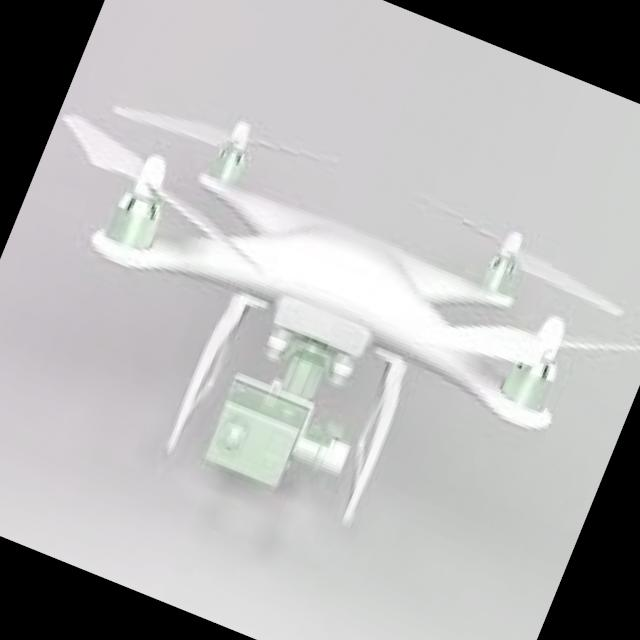drone: (0, 37, 640, 617)
